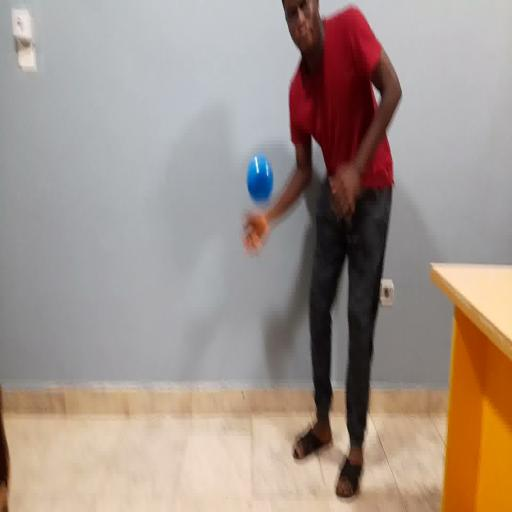plastic-ball: (247, 155, 273, 203)
